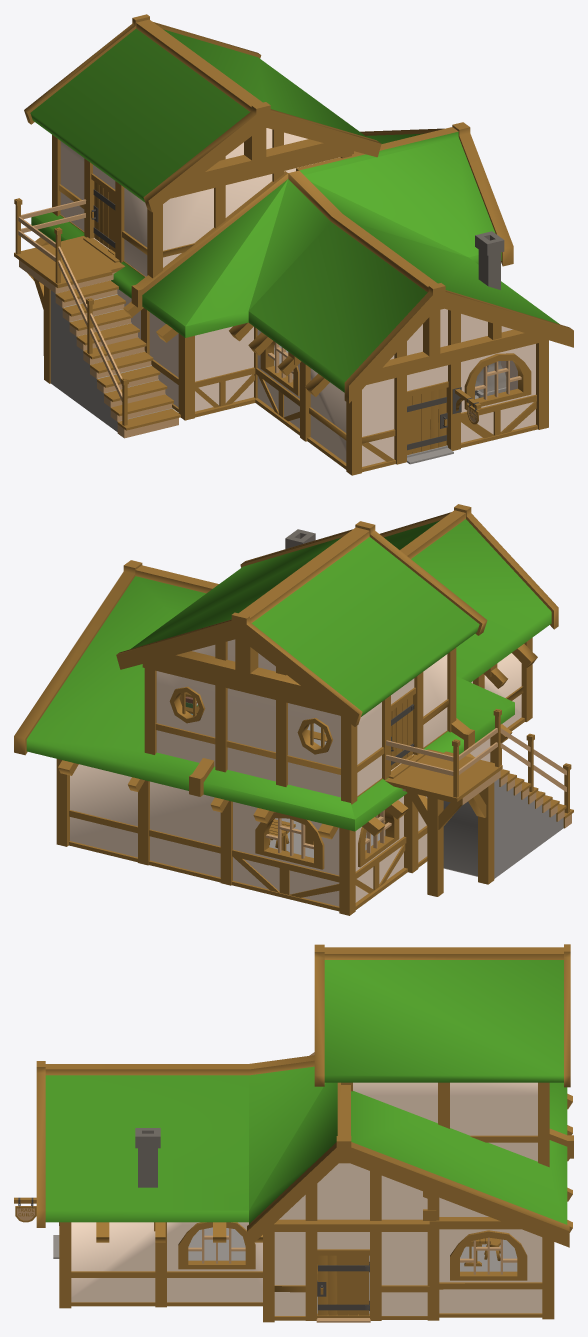
The model's file is 03_place_hall01.fbx.
3 views of the same model, one above another, from view 1: azimuth 30°, elevation 25°; view 2: azimuth 150°, elevation 25°; view 3: azimuth 270°, elevation 25° (orthographic). The views are drawn at different scales.
Visible parts, largest first — view 1: B1_Building_TradesmenGuild_01tri:roof, B1_Building_TradesmenGuild_01tri:downstairs, B1_Building_TradesmenGuild_01tri:roof_upstairs, B1_Building_TradesmenGuild_01tri:upstairs_hull, B1_Building_TradesmenGuild_01tri:doors_downstairs, B1_Building_TradesmenGuild_01tri:furnishings, B1_Building_TradesmenGuild_01tri:door_upstairs; view 2: B1_Building_TradesmenGuild_01tri:downstairs, B1_Building_TradesmenGuild_01tri:roof, B1_Building_TradesmenGuild_01tri:roof_upstairs, B1_Building_TradesmenGuild_01tri:upstairs_hull, B1_Building_TradesmenGuild_01tri:door_upstairs, B1_Building_TradesmenGuild_01tri:furnishings; view 3: B1_Building_TradesmenGuild_01tri:roof, B1_Building_TradesmenGuild_01tri:downstairs, B1_Building_TradesmenGuild_01tri:roof_upstairs, B1_Building_TradesmenGuild_01tri:upstairs_hull, B1_Building_TradesmenGuild_01tri:doors_downstairs, B1_Building_TradesmenGuild_01tri:furnishings.
Boxes of the visible parts, x1,y1,x2,y2 form: B1_Building_TradesmenGuild_01tri:roof: (31,122,573,403); B1_Building_TradesmenGuild_01tri:downstairs: (14,198,548,475); B1_Building_TradesmenGuild_01tri:roof_upstairs: (24,14,381,212); B1_Building_TradesmenGuild_01tri:upstairs_hull: (52,128,353,278); B1_Building_TradesmenGuild_01tri:doors_downstairs: (407,388,447,455); B1_Building_TradesmenGuild_01tri:furnishings: (475,231,506,397); B1_Building_TradesmenGuild_01tri:door_upstairs: (91,181,115,252); B1_Building_TradesmenGuild_01tri:downstairs: (56,637,573,915); B1_Building_TradesmenGuild_01tri:roof: (14,504,558,831); B1_Building_TradesmenGuild_01tri:roof_upstairs: (116,521,487,726); B1_Building_TradesmenGuild_01tri:upstairs_hull: (142,639,456,804); B1_Building_TradesmenGuild_01tri:door_upstairs: (391,696,414,770); B1_Building_TradesmenGuild_01tri:furnishings: (269,529,385,851); B1_Building_TradesmenGuild_01tri:roof: (36,1055,573,1248); B1_Building_TradesmenGuild_01tri:downstairs: (14,1052,572,1322); B1_Building_TradesmenGuild_01tri:roof_upstairs: (314,944,570,1087); B1_Building_TradesmenGuild_01tri:upstairs_hull: (341,1082,549,1167); B1_Building_TradesmenGuild_01tri:doors_downstairs: (317,1255,369,1315); B1_Building_TradesmenGuild_01tri:furnishings: (135,1128,500,1280).
Bounding box in the file's own units: 7002 × 4697 × 8533.
